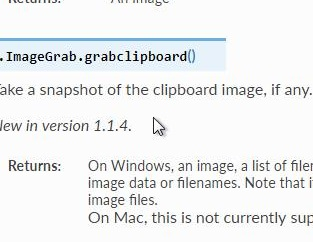cursor: (152, 116, 166, 136)
